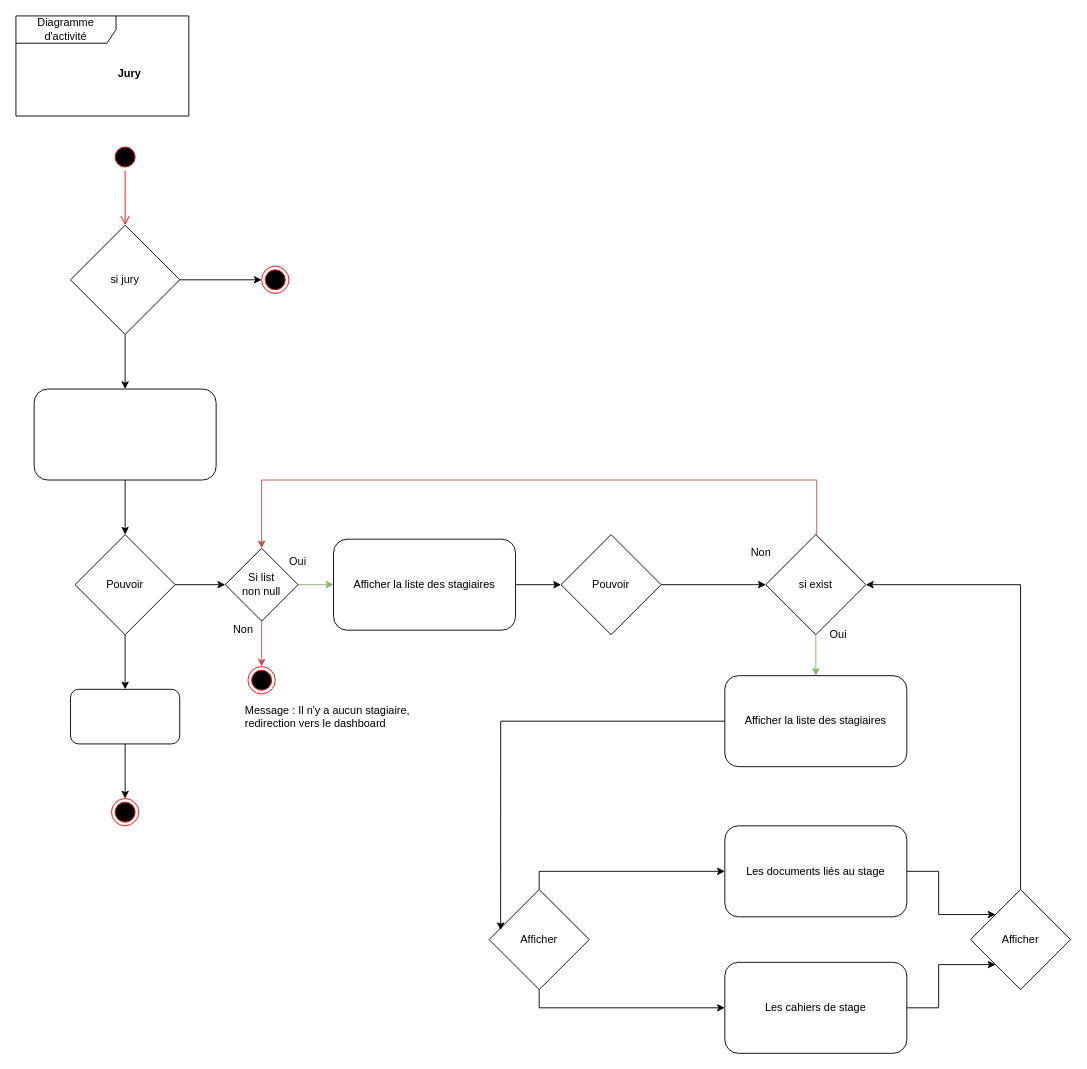
Some shapes in this 1087 by 1069 pixel diagram are drawn without their labels. Each missing label, with the centre of its shape:
"Affiche le dashboard jury" belongs at [124,434].
"deconnection" belongs at [125,716].
